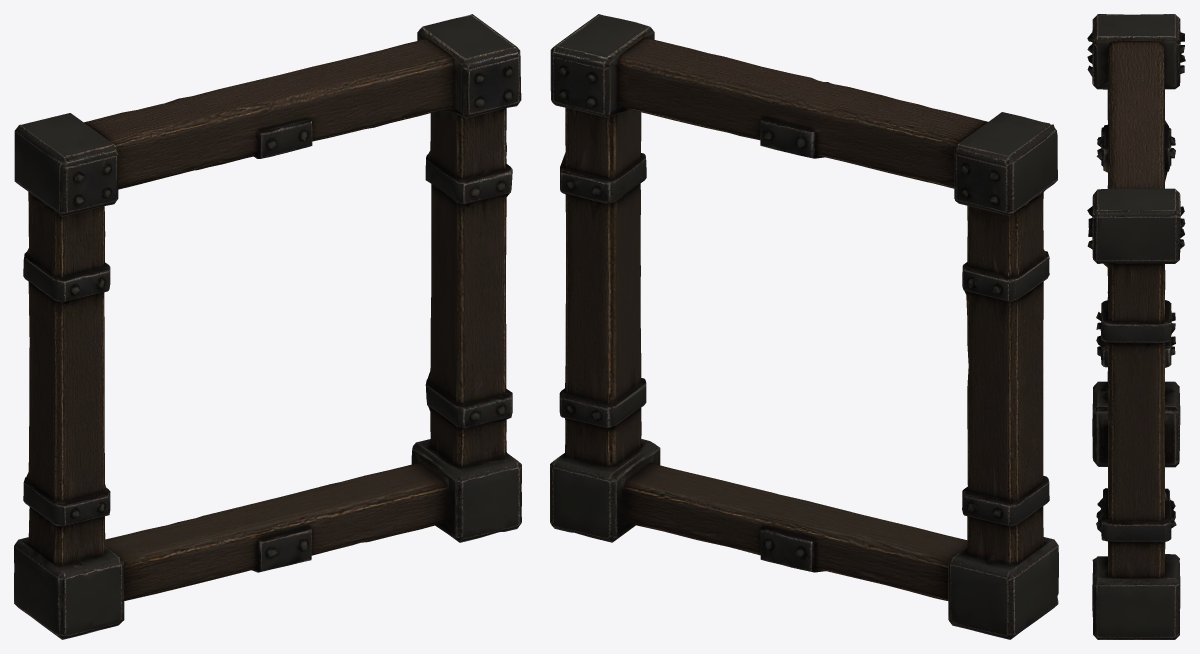
Rendered from Door_Frame_Wood_Square.fbx.
The picture shows the model from 3 angles, left to right: view 1: azimuth 30°, elevation 25°; view 2: azimuth 150°, elevation 25°; view 3: azimuth 270°, elevation 25°; orthographic projection. The views are drawn at different scales.
Visible parts, largest first — view 1: door_frame_square_wood; view 2: door_frame_square_wood; view 3: door_frame_square_wood.
Boxes of the visible parts, left/top/right/bottom form: door_frame_square_wood: left=14, top=14, right=521, bottom=639; door_frame_square_wood: left=550, top=14, right=1058, bottom=639; door_frame_square_wood: left=1087, top=14, right=1185, bottom=639.
Size of the model in its own units: 315 by 313 by 65.09.
1 material, 1 textured.
